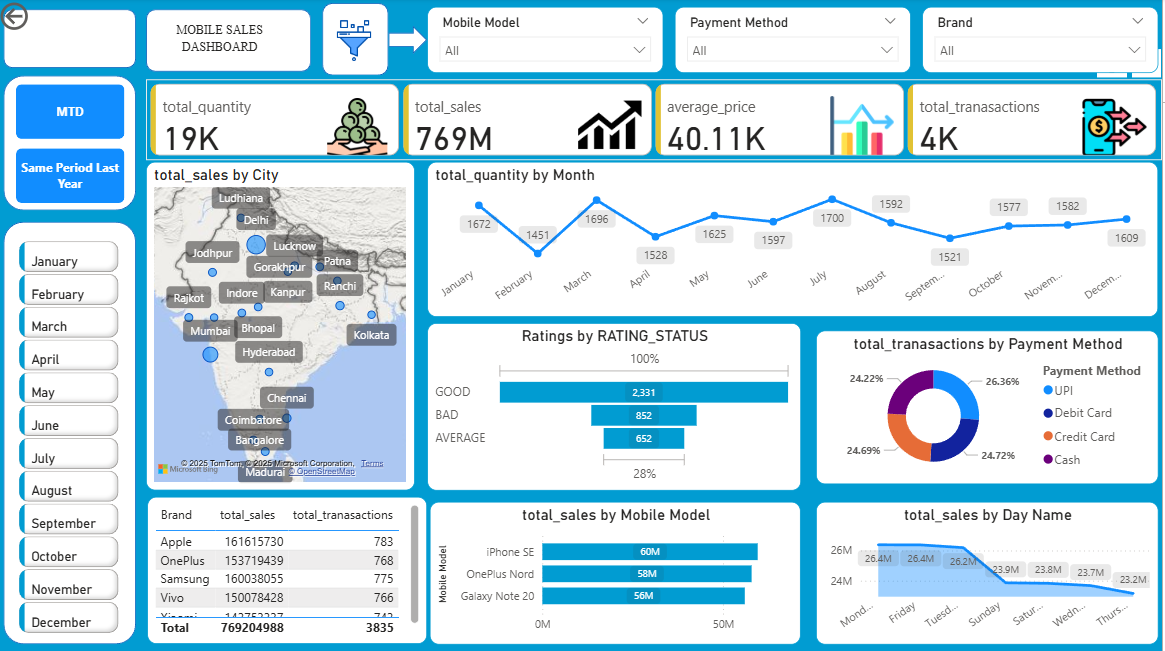

The dashboard page shown, as its layout file describes it:
{"tool":"powerbi","page":{"name":"Dashboard","canvas":[1280,720],"ordinal":0},"visuals":[{"type":"shape","box":[8.2,12.3,145.5,64.5],"z":0},{"type":"shape","box":[8.2,85.1,145.5,148.2],"z":1000},{"type":"shape","box":[8.2,245.6,145.5,463.8],"z":2000},{"type":"advancedSlicerVisual","fields":{"Values":["caleder.Date.Variation.Date Hierarchy.Month"]},"box":[20.6,262.1,119.4,447.3],"z":3000},{"type":"cardVisual","fields":{"Data":["Mobile_sales_data.total_quantity","Mobile_sales_data.total_sales","Mobile_sales_data.average_price","Mobile_sales_data.total_tranasactions"]},"box":[164.7,89.2,1115.6,89.2],"z":4000},{"type":"slicer","fields":{"Values":["Mobile_sales_data.Mobile Model"]},"box":[473.4,9.6,259.3,72.7],"z":5000},{"type":"slicer","fields":{"Values":["Mobile_sales_data.Payment Method"]},"box":[745.1,9.6,259.3,72.7],"z":6000},{"type":"shape","box":[358.1,5.5,72.7,79.6],"z":7000},{"type":"slicer","fields":{"Values":["Mobile_sales_data.Brand"]},"box":[1016.8,9.6,259.3,72.7],"z":8000},{"type":"image","box":[365,6.9,56.3,79.6],"z":9000},{"type":"shape","box":[164.7,12.3,181.1,68.6],"z":10000},{"type":"textbox","box":[164.7,20.6,161.9,68.6],"z":11000},{"type":"map","fields":{"Category":["Mobile_sales_data.City"],"Size":["Mobile_sales_data.total_sales"]},"box":[164.7,179.8,295,360.9],"z":12000},{"type":"lineChart","fields":{"Category":["caleder.Date.Variation.Date Hierarchy.Month"],"Y":["Mobile_sales_data.total_quantity"]},"box":[473.4,179.8,802.7,170.2],"z":13000},{"type":"funnel","title":" Ratings by RATING_STATUS","fields":{"Y":["CountNonNull(Mobile_sales_data.Customer Ratings)"],"Category":["Mobile_sales_data.RATING_STATUS"]},"box":[473.4,356.8,410.3,183.9],"z":14000},{"type":"donutChart","fields":{"Y":["Mobile_sales_data.total_tranasactions"],"Category":["Mobile_sales_data.Payment Method"]},"box":[900.2,365,376,168.8],"z":15000},{"type":"clusteredBarChart","fields":{"Y":["Mobile_sales_data.total_sales"],"Category":["Mobile_sales_data.Mobile Model"]},"box":[476.2,553,407.5,156.4],"z":16000},{"type":"areaChart","fields":{"Y":["Mobile_sales_data.total_sales"],"Category":["caleder.Day Name"]},"box":[900.2,553,376,156.4],"z":17000},{"type":"shape","box":[430.9,30.2,42.5,31.6],"z":18000},{"type":"tableEx","fields":{"Values":["Mobile_sales_data.Brand","Mobile_sales_data.total_sales","Mobile_sales_data.total_tranasactions"]},"box":[166,547.5,307.4,161.9],"z":19000},{"type":"actionButton","box":[0,0,100,40],"z":20000},{"type":"pageNavigator","box":[22,94.7,119.4,130.4],"z":20001}]}

Visuals, with their boxes in screenshot pixels (x1, y1, x2, y2), scaled from the page's 1280x720 canvas onto the 1165x651 screenshot:
shape: left=7, top=11, right=140, bottom=69
shape: left=7, top=77, right=140, bottom=211
shape: left=7, top=222, right=140, bottom=641
advancedSlicerVisual - caleder.Date.Variation.Date Hierarchy.Month: left=19, top=237, right=127, bottom=641
cardVisual - Mobile_sales_data.total_quantity x Mobile_sales_data.total_sales: left=150, top=81, right=1164, bottom=161
slicer - Mobile_sales_data.Mobile Model: left=431, top=9, right=667, bottom=74
slicer - Mobile_sales_data.Payment Method: left=678, top=9, right=914, bottom=74
shape: left=326, top=5, right=392, bottom=77
slicer - Mobile_sales_data.Brand: left=925, top=9, right=1161, bottom=74
image: left=332, top=6, right=383, bottom=78
shape: left=150, top=11, right=315, bottom=73
textbox: left=150, top=19, right=297, bottom=81
map - Mobile_sales_data.City x Mobile_sales_data.total_sales: left=150, top=163, right=418, bottom=489
lineChart - caleder.Date.Variation.Date Hierarchy.Month x Mobile_sales_data.total_quantity: left=431, top=163, right=1161, bottom=316
" Ratings by RATING_STATUS" funnel: left=431, top=323, right=804, bottom=489
donutChart - Mobile_sales_data.total_tranasactions x Mobile_sales_data.Payment Method: left=819, top=330, right=1162, bottom=483
clusteredBarChart - Mobile_sales_data.total_sales x Mobile_sales_data.Mobile Model: left=433, top=500, right=804, bottom=641
areaChart - Mobile_sales_data.total_sales x caleder.Day Name: left=819, top=500, right=1162, bottom=641
shape: left=392, top=27, right=431, bottom=56
tableEx - Mobile_sales_data.Brand x Mobile_sales_data.total_sales: left=151, top=495, right=431, bottom=641
actionButton: left=0, top=0, right=91, bottom=36
pageNavigator: left=20, top=86, right=129, bottom=204
